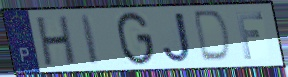D: (193, 9, 233, 65)
F: (233, 10, 265, 60)
G: (115, 10, 157, 67)
H: (35, 14, 78, 69)
I: (78, 13, 102, 67)
J: (161, 11, 194, 65)
